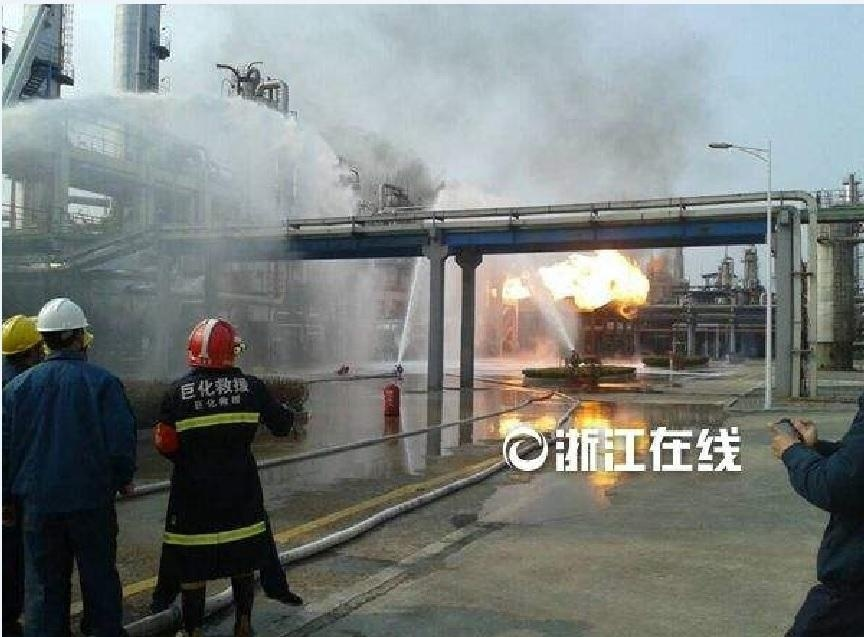fire: (496, 248, 652, 311)
